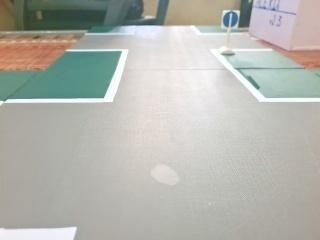straight: (218, 1, 246, 32)
